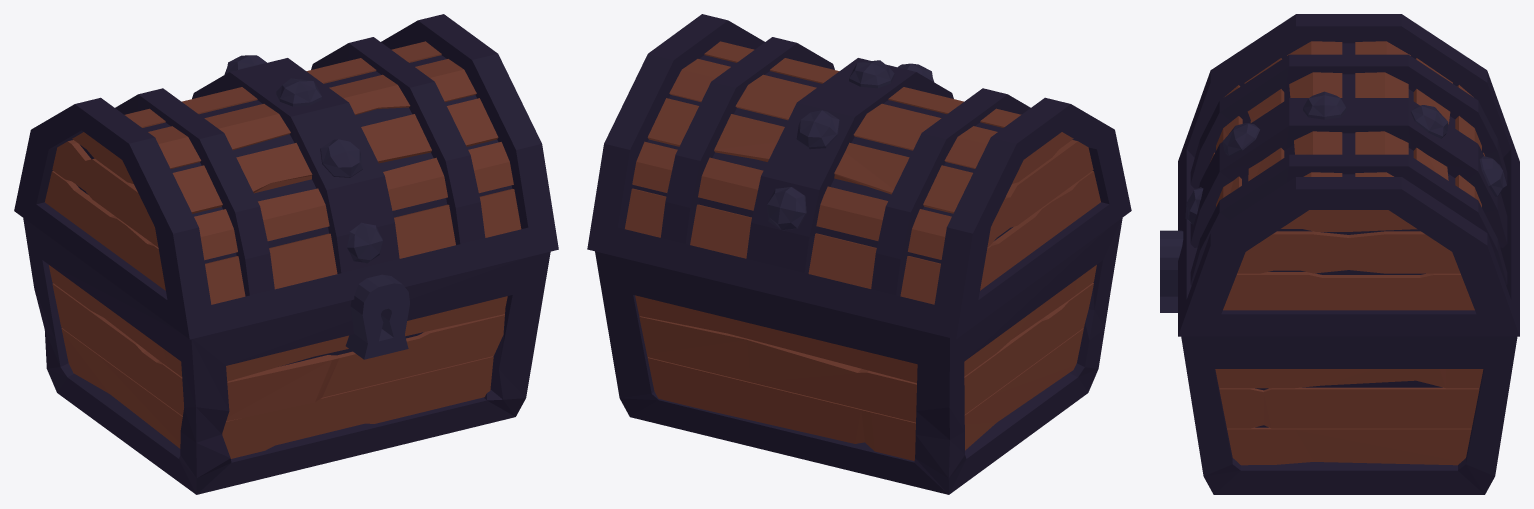
The model's file is chest_closed.glb.
3 renders of one model, left to right at view 1: azimuth 30°, elevation 25°; view 2: azimuth 150°, elevation 25°; view 3: azimuth 270°, elevation 25°, orthographic. The views are drawn at different scales.
Parts seen in each view (by area): view 1: Chest_Closed; view 2: Chest_Closed; view 3: Chest_Closed.
Part boxes in pixels (x1,y1,x2,y2): Chest_Closed: [14, 14, 558, 494]; Chest_Closed: [587, 14, 1131, 494]; Chest_Closed: [1160, 14, 1519, 494].
Size of the model in its own units: 94.96 by 81.85 by 82.38.
